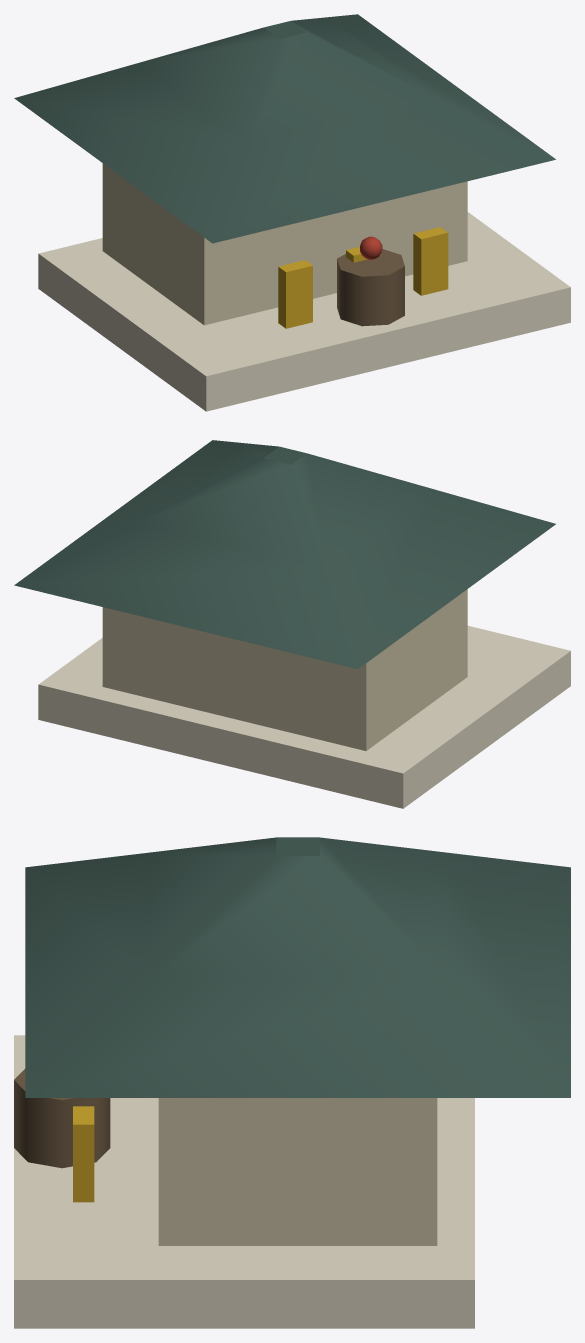
3 renders of one model, top to bottom at view 1: azimuth 30°, elevation 25°; view 2: azimuth 150°, elevation 25°; view 3: azimuth 270°, elevation 25°, orthographic. The views are drawn at different scales.
Parts seen in each view (by area): view 1: _MeshInstance3D_119, _MeshInstance3D_117, _MeshInstance3D_118, _MeshInstance3D_123, _MeshInstance3D_122, _MeshInstance3D_120; view 2: _MeshInstance3D_119, _MeshInstance3D_117, _MeshInstance3D_118; view 3: _MeshInstance3D_119, _MeshInstance3D_117, _MeshInstance3D_118, _MeshInstance3D_123, _MeshInstance3D_122.
Part boxes in pixels (box(x1,y1,x2,y2)): _MeshInstance3D_119: box(14, 14, 555, 243); _MeshInstance3D_117: box(38, 212, 570, 411); _MeshInstance3D_118: box(102, 163, 467, 325); _MeshInstance3D_123: box(337, 249, 404, 326); _MeshInstance3D_122: box(413, 227, 448, 295); _MeshInstance3D_120: box(278, 260, 312, 328); _MeshInstance3D_119: box(14, 440, 555, 669); _MeshInstance3D_117: box(38, 625, 570, 808); _MeshInstance3D_118: box(102, 589, 467, 750); _MeshInstance3D_119: box(25, 837, 570, 1097); _MeshInstance3D_117: box(14, 1035, 474, 1328); _MeshInstance3D_118: box(158, 1098, 437, 1245); _MeshInstance3D_123: box(14, 1068, 110, 1168); _MeshInstance3D_122: box(73, 1106, 94, 1202).
Bounding box in the file's own units: 1.08 × 0.74 × 1.04.
